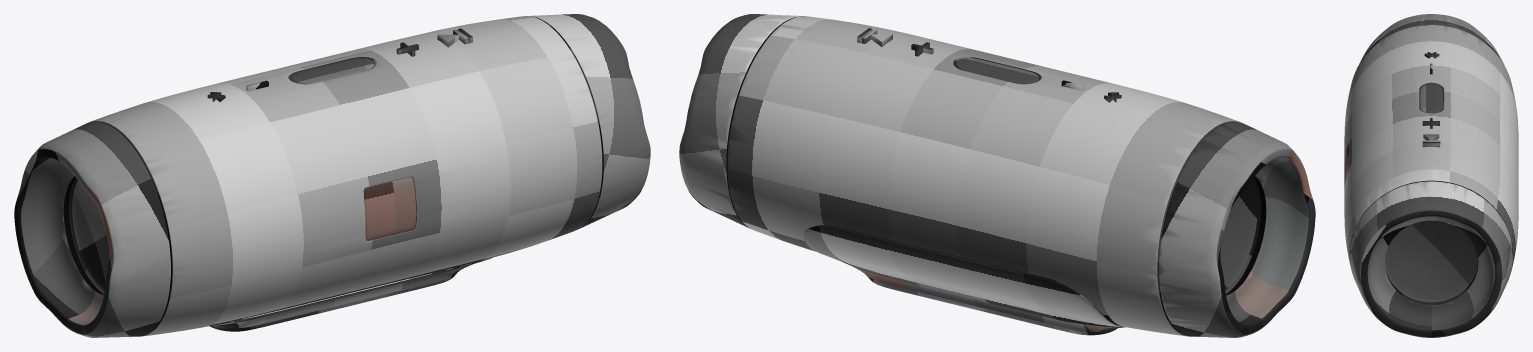
The picture shows the model from 3 angles, left to right: view 1: azimuth 30°, elevation 25°; view 2: azimuth 150°, elevation 25°; view 3: azimuth 270°, elevation 25°; orthographic projection. The views are drawn at different scales.
Visible parts, largest first — view 1: JBL_HighPoly; view 2: JBL_HighPoly; view 3: JBL_HighPoly.
Part boxes in pixels (x1,y1,x2,y2): JBL_HighPoly: [14, 14, 650, 337]; JBL_HighPoly: [679, 14, 1315, 337]; JBL_HighPoly: [1344, 14, 1518, 337].
Bounding box in the file's own units: 0.213 × 0.0874 × 0.0801.
Materials: 1 (1 with a texture image).
